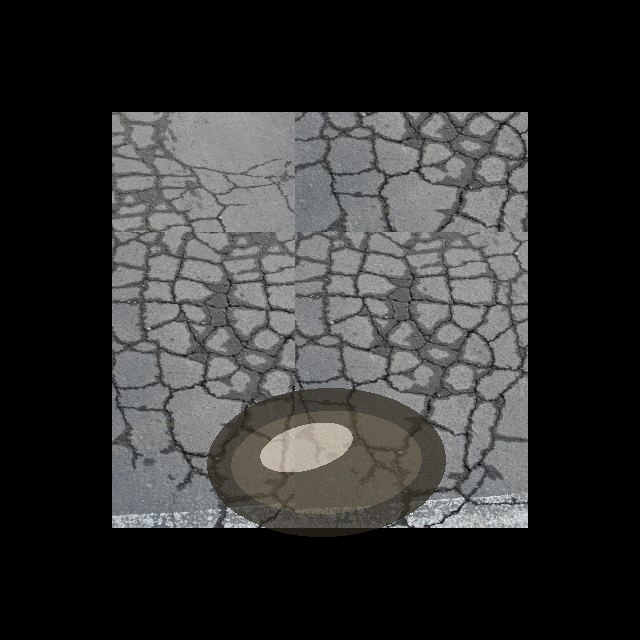waterlogging: (197, 378, 455, 546)
